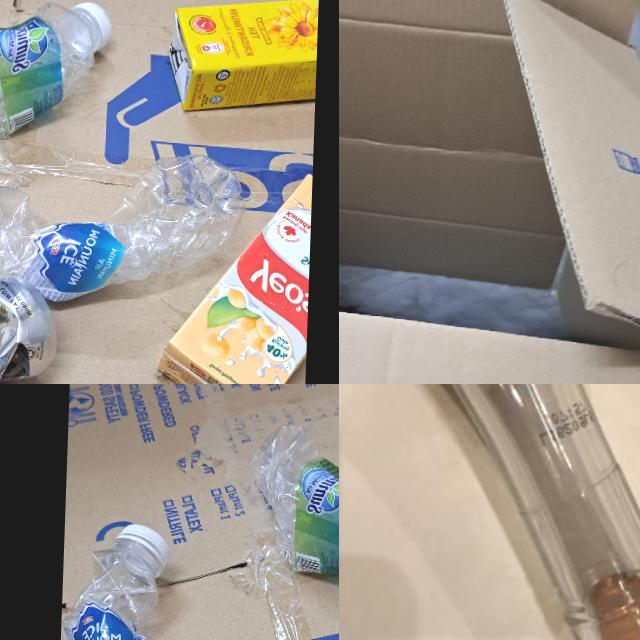caixinha: (157, 166, 312, 384), (167, 0, 318, 115)
garrafa de vidro: (339, 384, 640, 640)
garrafa plástica: (0, 142, 243, 308), (56, 544, 265, 640), (0, 0, 112, 139), (243, 422, 339, 578)
papelão: (0, 0, 322, 384), (339, 0, 640, 384), (48, 384, 339, 640)
tampa plástica: (114, 522, 171, 565), (70, 3, 112, 54)
